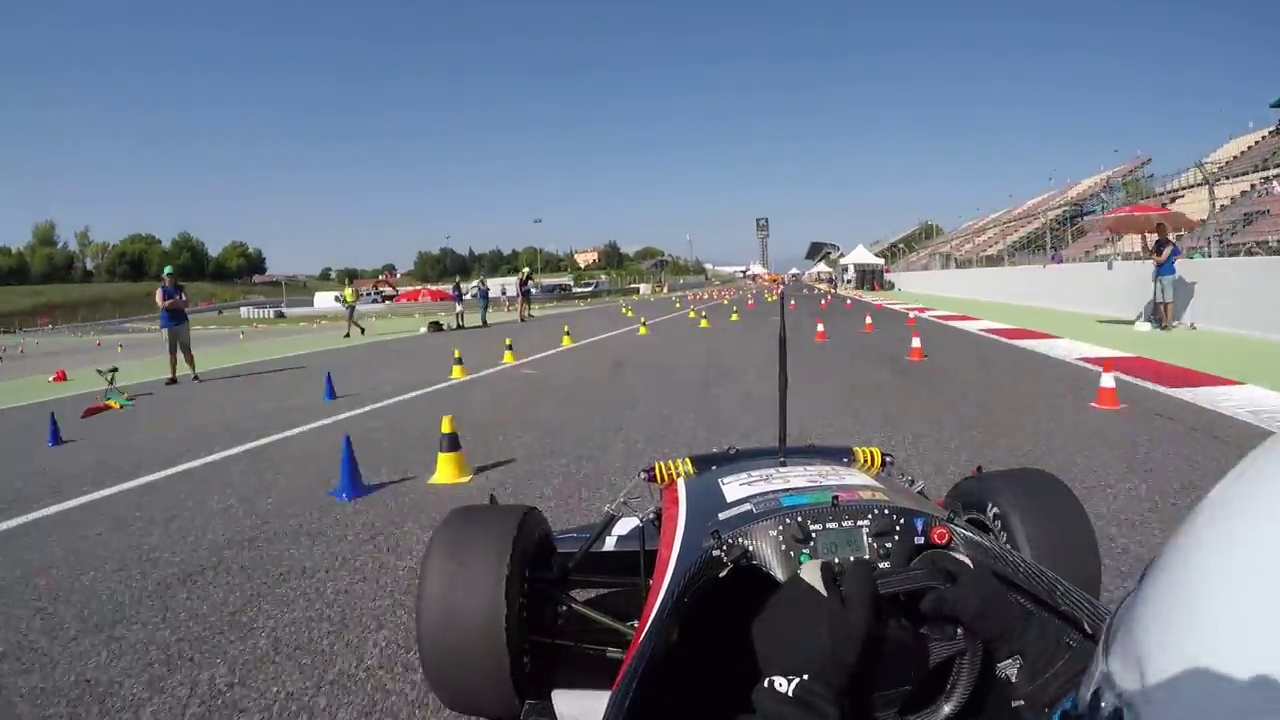Cone: (429, 412, 476, 488), (326, 434, 372, 500), (1089, 359, 1123, 413), (43, 409, 68, 448), (907, 323, 929, 363), (445, 345, 470, 380), (317, 370, 344, 400), (498, 335, 521, 363)
